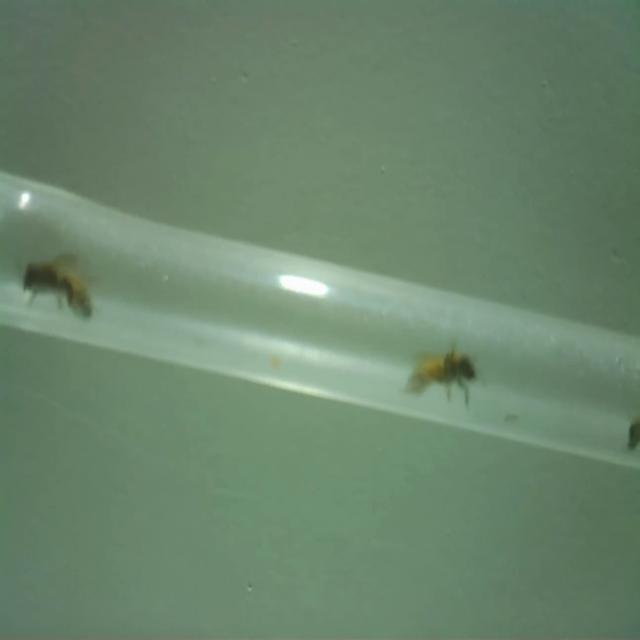Honeybee-Detection: (400, 340, 481, 410), (22, 248, 95, 321), (626, 413, 640, 450)
